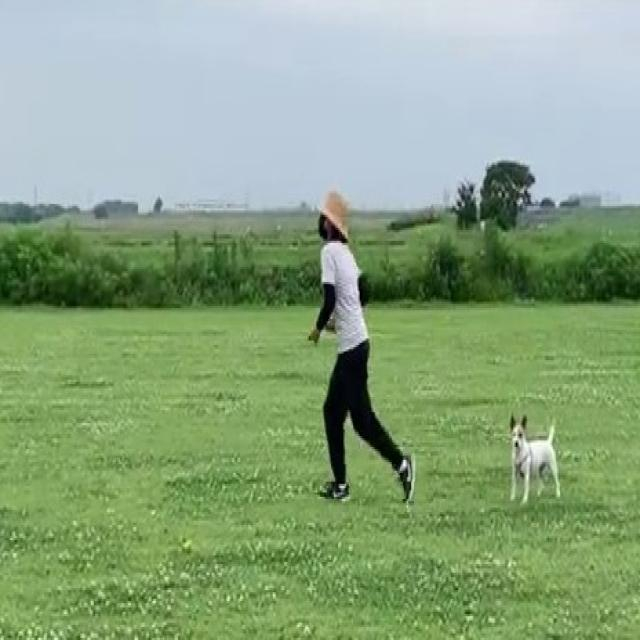Unleashed_Dog: (325, 413, 562, 504)
